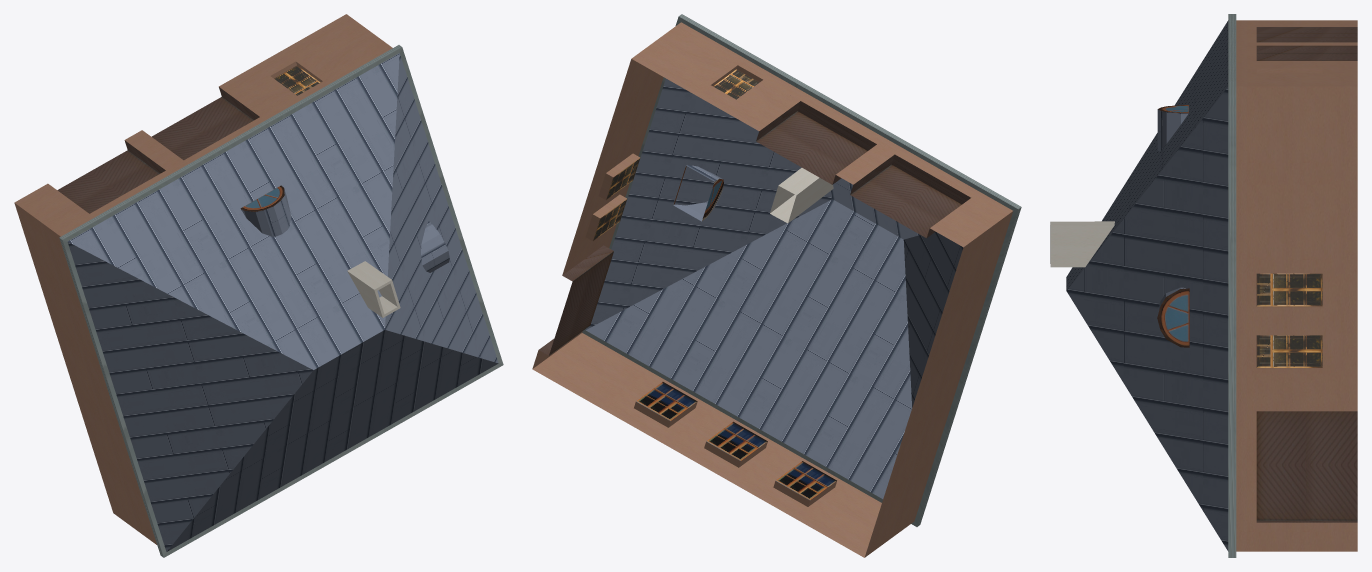
Rendered from Wismari7_3.obj.
3 renders of one model, left to right at view 1: azimuth 30°, elevation 25°; view 2: azimuth 150°, elevation 25°; view 3: azimuth 270°, elevation 25°, orthographic. The views are drawn at different scales.
Visible parts, largest first — view 1: W7_BuildingB; view 2: W7_BuildingB; view 3: W7_BuildingB.
Part boxes in pixels (<box>): W7_BuildingB: <box>14,14,503,557</box>; W7_BuildingB: <box>532,14,1021,557</box>; W7_BuildingB: <box>1050,14,1357,557</box>.
Size of the model in its own units: 15.78 by 15.48 by 7.83.
